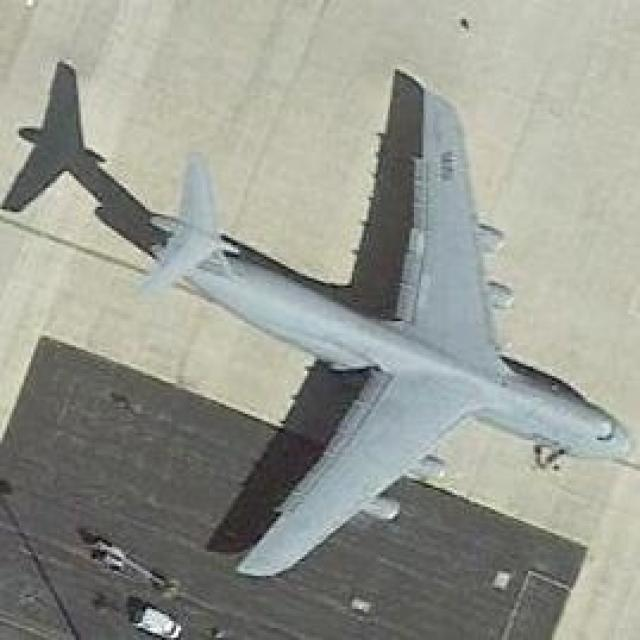C-5_TopDown: (0, 54, 635, 580)
